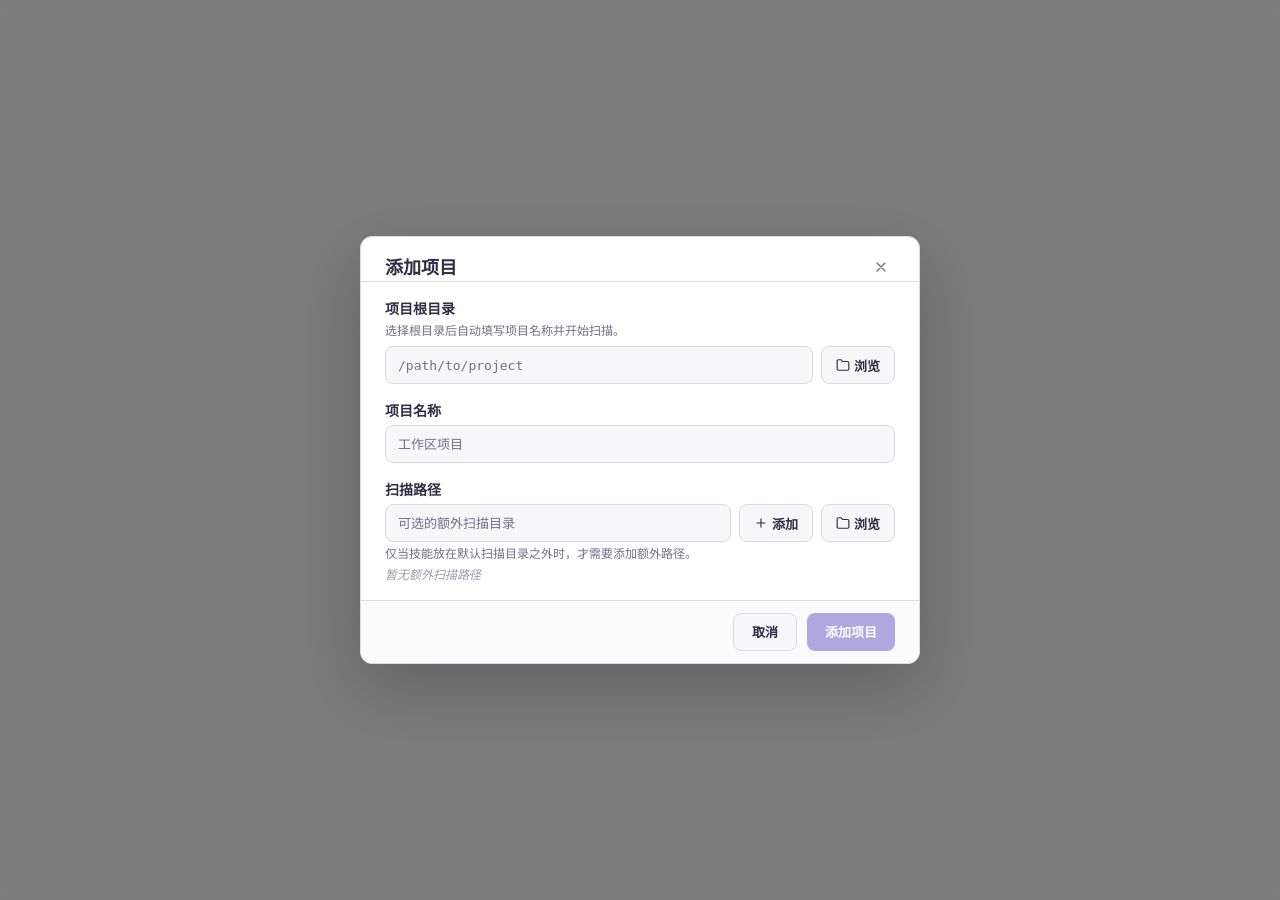
Scenario: AddProjectModal › selectFolder with available dialog sets rootDir
The width and height of the screenshot is (1280, 900).
Click the button with class "btn-browse" below "选择根目录后自动填写项目名称并开始扫描。".
click(858, 365)  # box [821, 346, 895, 384]
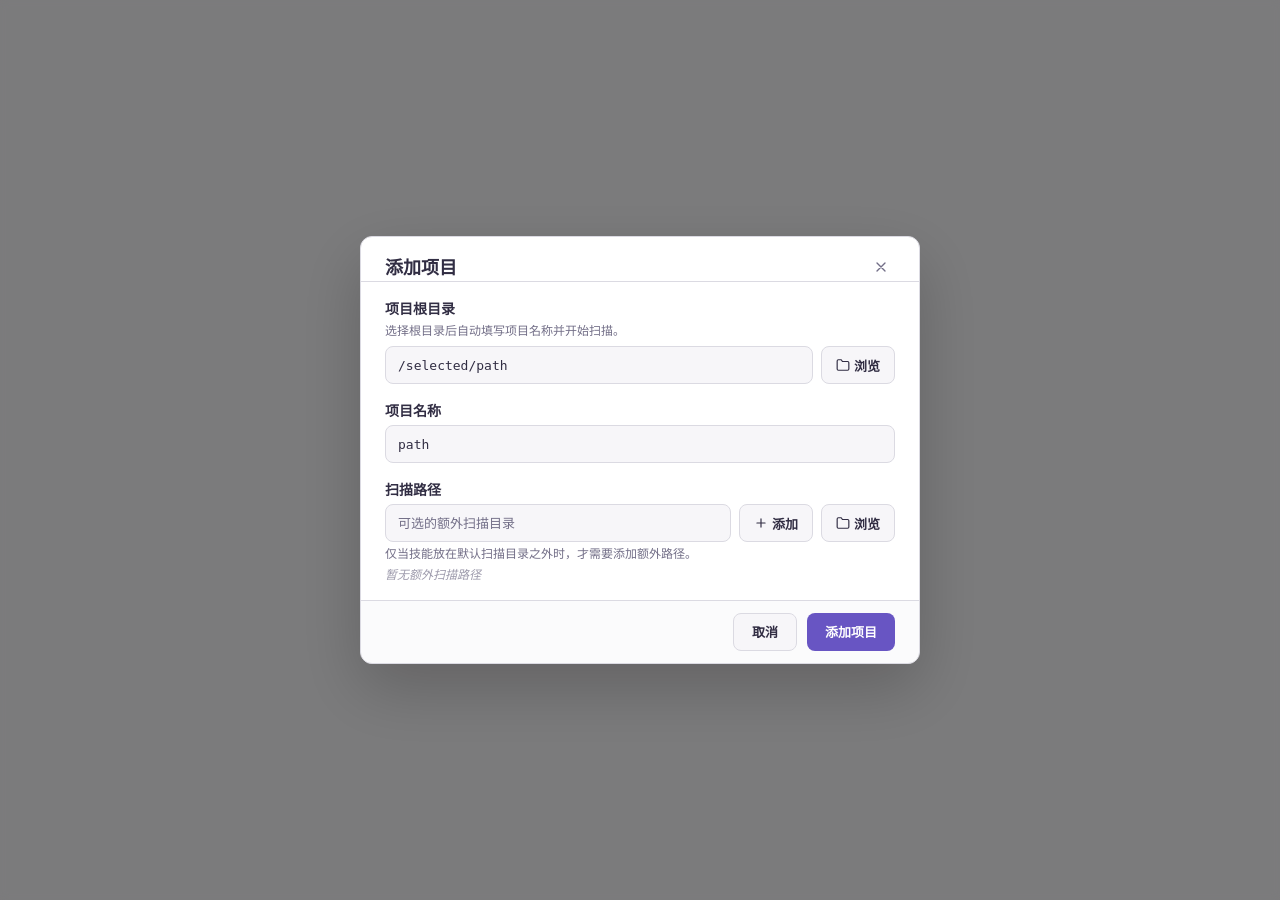
Expected: the field below "选择根目录后自动填写项目名称并开始扫描。" holds "/selected/path", [385, 346, 813, 384]
